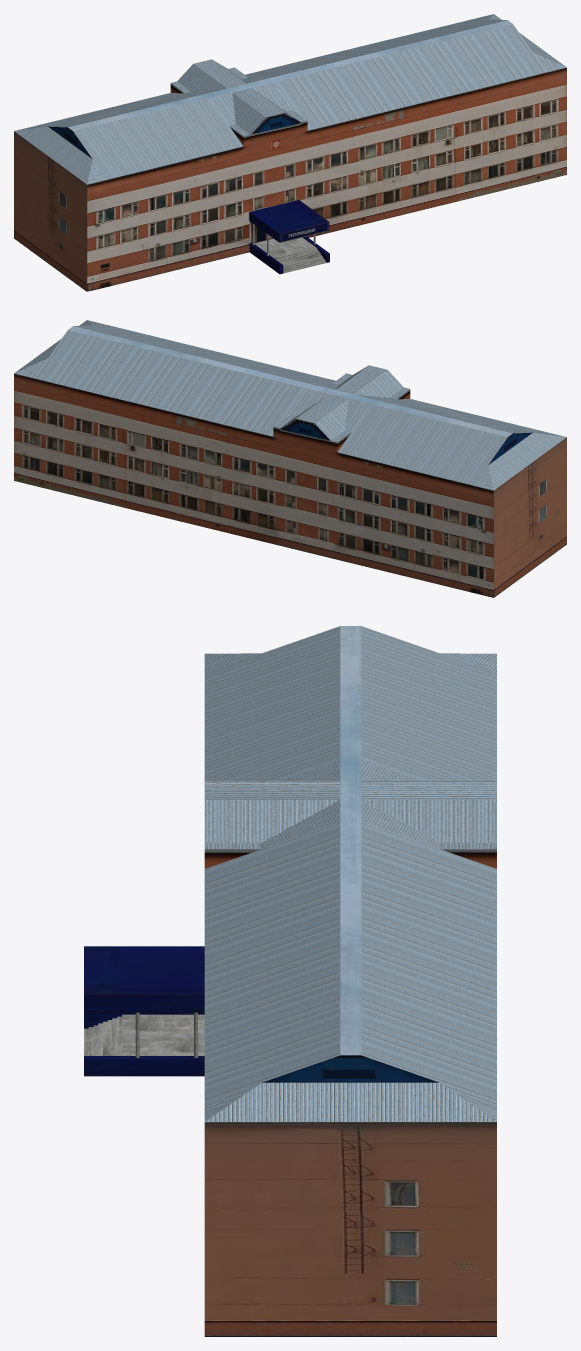
Rendered from delegacia.glb.
The picture shows the model from 3 angles, top to bottom: view 1: azimuth 30°, elevation 25°; view 2: azimuth 150°, elevation 25°; view 3: azimuth 270°, elevation 25°; orthographic projection. The views are drawn at different scales.
Parts seen in each view (by area): view 1: body, cover, cover2, stairs, side; view 2: body, cover; view 3: cover, body, cover2, stairs, side.
Part boxes in pixels (x1=…): body: x1=14, y1=67, x2=566, y2=291; cover: x1=14, y1=14, x2=566, y2=184; cover2: x1=249, y1=200, x2=329, y2=242; stairs: x1=254, y1=237, x2=326, y2=273; side: x1=249, y1=236, x2=329, y2=274; body: x1=14, y1=373, x2=566, y2=597; cover: x1=14, y1=320, x2=566, y2=490; cover: x1=204, y1=626, x2=496, y2=1121; body: x1=204, y1=1122, x2=496, y2=1336; cover2: x1=84, y1=946, x2=204, y2=1012; stairs: x1=84, y1=1014, x2=204, y2=1055; side: x1=84, y1=1012, x2=204, y2=1076.
Size of the model in its own units: 34 by 8.86 by 12.67.
4 materials, 4 textured.
